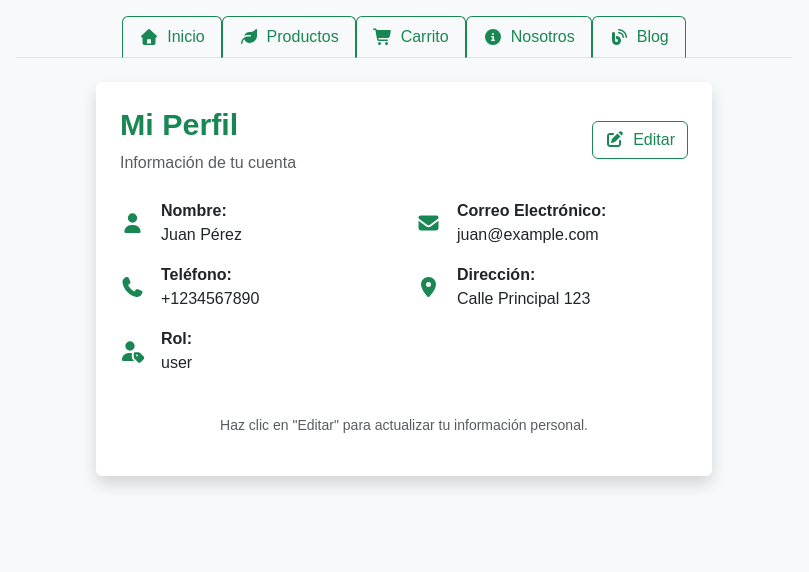
it: Profile Component › Authenticated user › Edit mode › should cancel edit mode when cancel button is clicked
The width and height of the screenshot is (809, 572).
# Enter edit mode
Click the button "Editar" at [640, 140], box [592, 121, 688, 159]
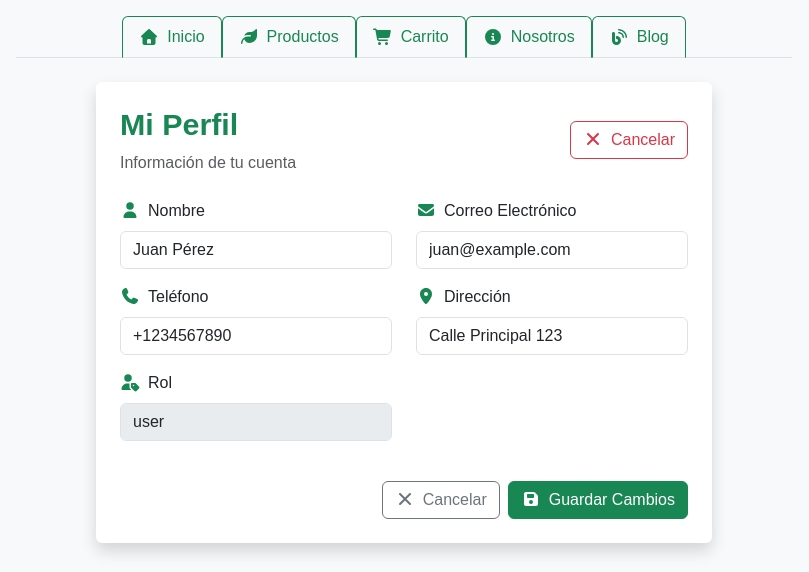
Click the button "Cancelar" below "Rol" at [441, 500], box [382, 480, 500, 518]
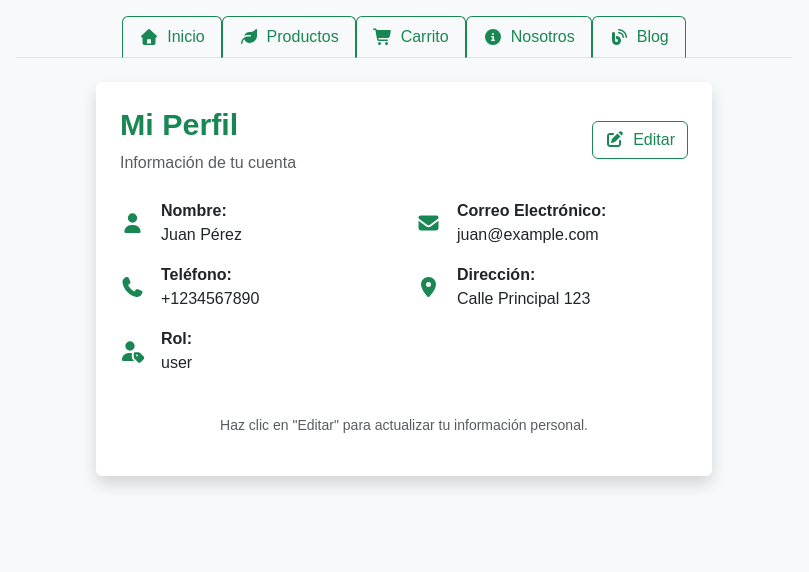
Result: the text "Juan Pérez" is shown at [161, 222, 242, 246]
Result: the button "Editar" is shown at [592, 121, 688, 159]
